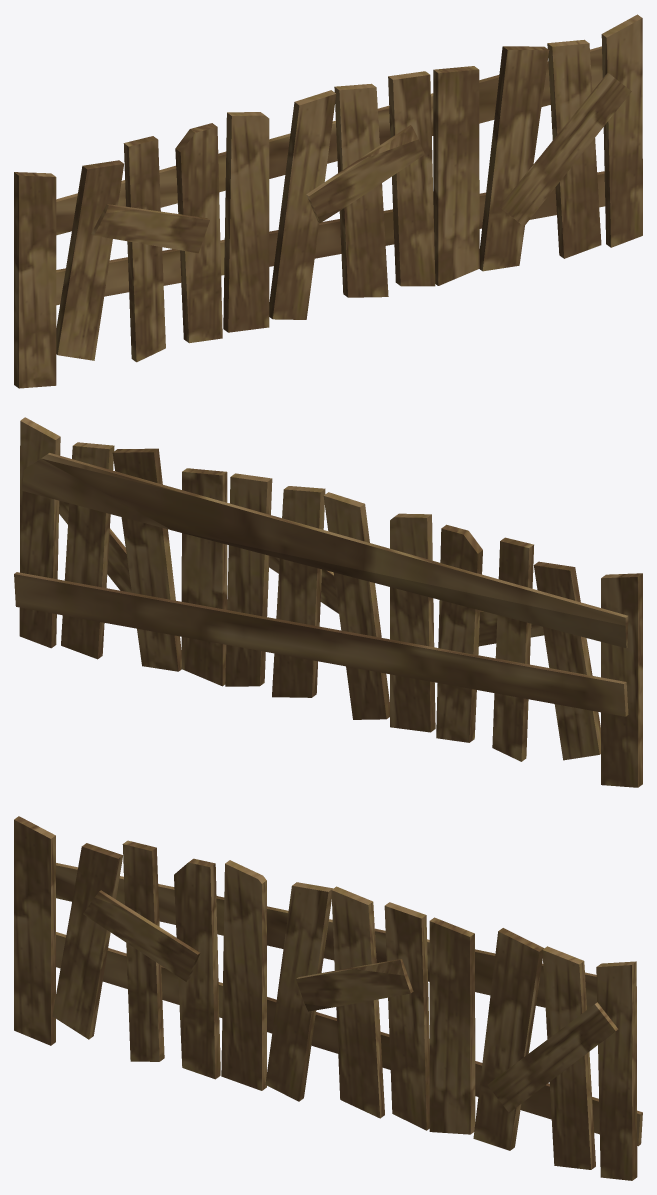
File: SM_Barriere_005.fbx
The picture shows the model from 3 angles, top to bottom: view 1: azimuth 30°, elevation 25°; view 2: azimuth 150°, elevation 25°; view 3: azimuth 330°, elevation 25°; orthographic projection.
Parts seen in each view (by area): view 1: pCube22; view 2: pCube22; view 3: pCube22.
Part boxes in pixels (x1,y1,x2,y2): pCube22: (14, 14, 642, 388); pCube22: (14, 417, 642, 787); pCube22: (14, 816, 642, 1180).
Bounding box in the file's own units: 411 × 142 × 11.94.
